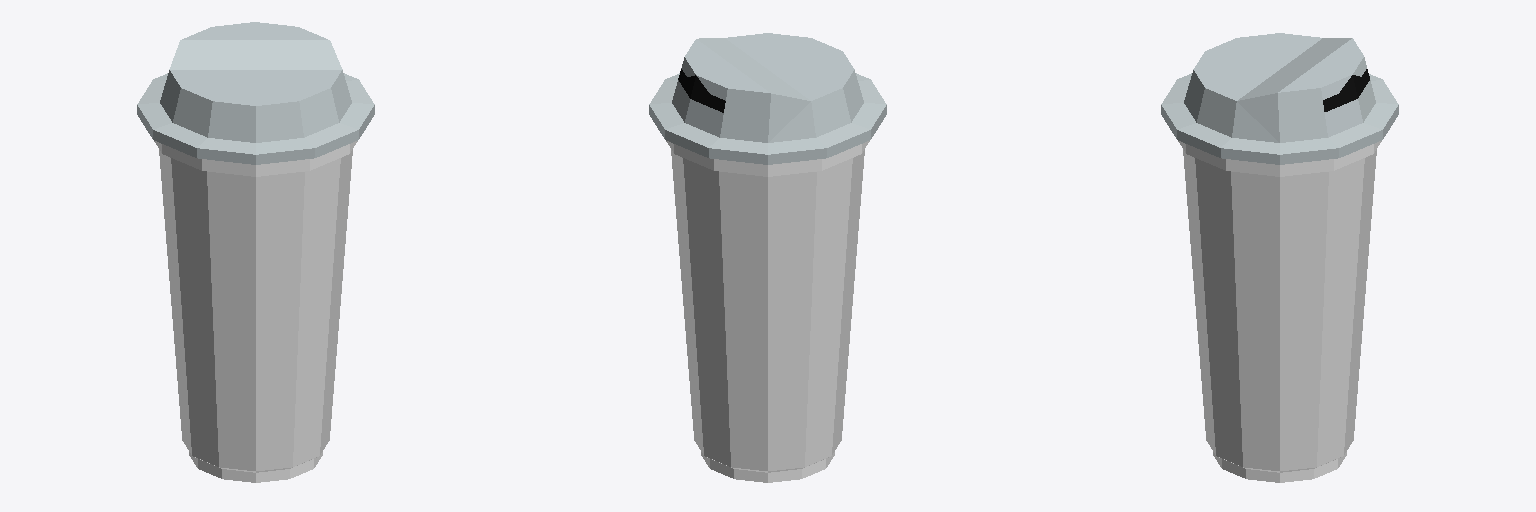
Rendered from caffenio.obj.
3 views of the same model, side by side, from view 1: azimuth 30°, elevation 25°; view 2: azimuth 150°, elevation 25°; view 3: azimuth 270°, elevation 25° (orthographic).
Visible parts, largest first — view 1: group[number redacted]; view 2: group[number redacted]; view 3: group[number redacted].
Boxes of the visible parts, x1=… form: group[number redacted]: x1=137, y1=22, x2=374, y2=482; group[number redacted]: x1=649, y1=33, x2=886, y2=482; group[number redacted]: x1=1161, y1=33, x2=1398, y2=482.
Bounding box in the file's own units: 1.05 × 1.93 × 1.05.